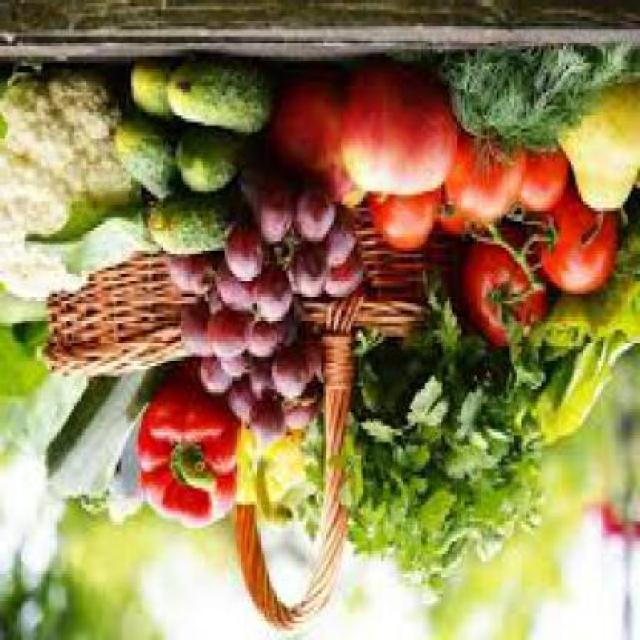BIODEGRADABLE: (356, 293, 544, 604), (2, 66, 141, 297), (526, 211, 639, 449), (432, 46, 620, 162), (344, 63, 462, 202), (138, 379, 242, 535), (262, 66, 366, 214), (47, 379, 161, 498), (558, 70, 638, 218), (458, 235, 553, 350), (526, 195, 625, 297), (435, 135, 527, 240), (171, 60, 277, 146), (12, 376, 92, 462), (237, 426, 305, 514), (148, 195, 232, 254), (122, 118, 180, 202), (370, 198, 444, 257), (180, 136, 248, 198), (516, 148, 572, 214), (108, 435, 146, 528), (254, 178, 297, 244), (133, 63, 178, 122), (254, 268, 294, 326), (217, 264, 260, 316), (294, 238, 331, 296), (296, 191, 336, 244), (215, 311, 252, 366), (272, 353, 314, 399), (180, 304, 212, 362), (168, 251, 214, 291), (232, 231, 265, 284), (252, 317, 290, 363), (331, 218, 362, 270), (229, 380, 260, 432), (326, 261, 366, 301), (252, 402, 286, 448), (200, 359, 234, 399), (287, 402, 324, 436), (252, 362, 274, 402), (220, 356, 257, 379)
